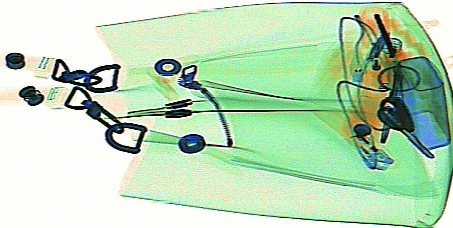lighter: (307, 96, 395, 171)
